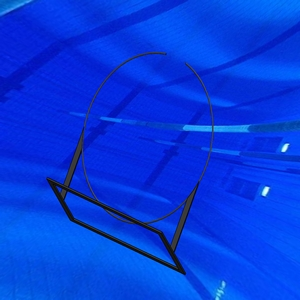circle: (46, 50, 215, 275)
